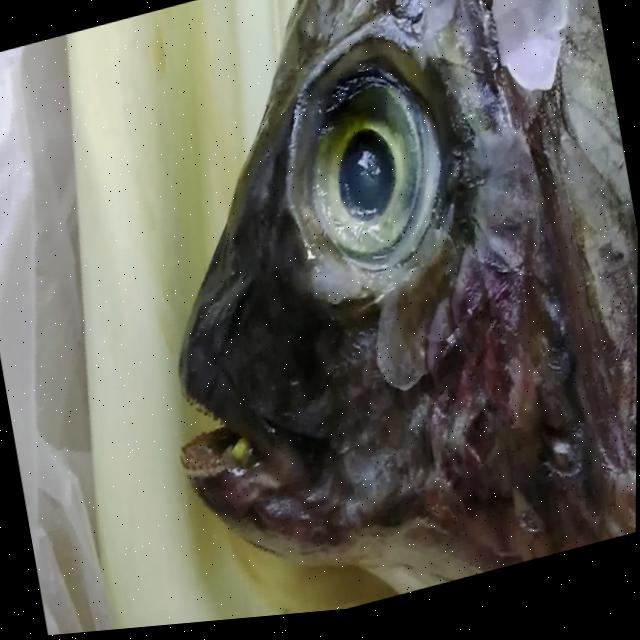Non-Fresh: (167, 20, 563, 612)
